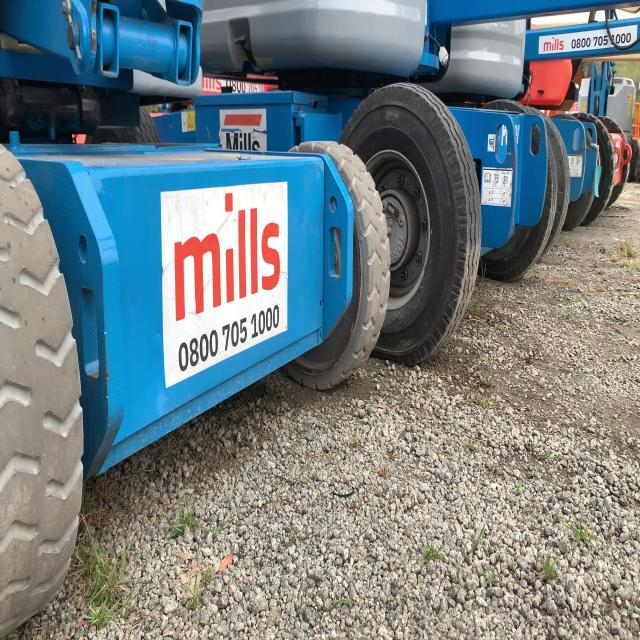Adesivos: (160, 178, 289, 391)
